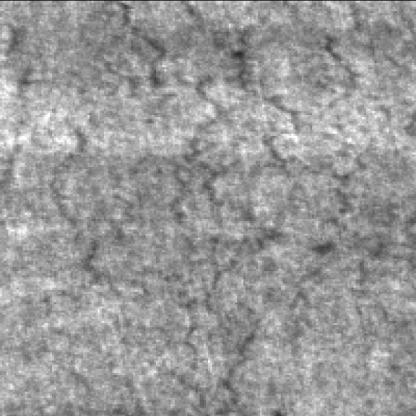crazing: (166, 35, 331, 416)
